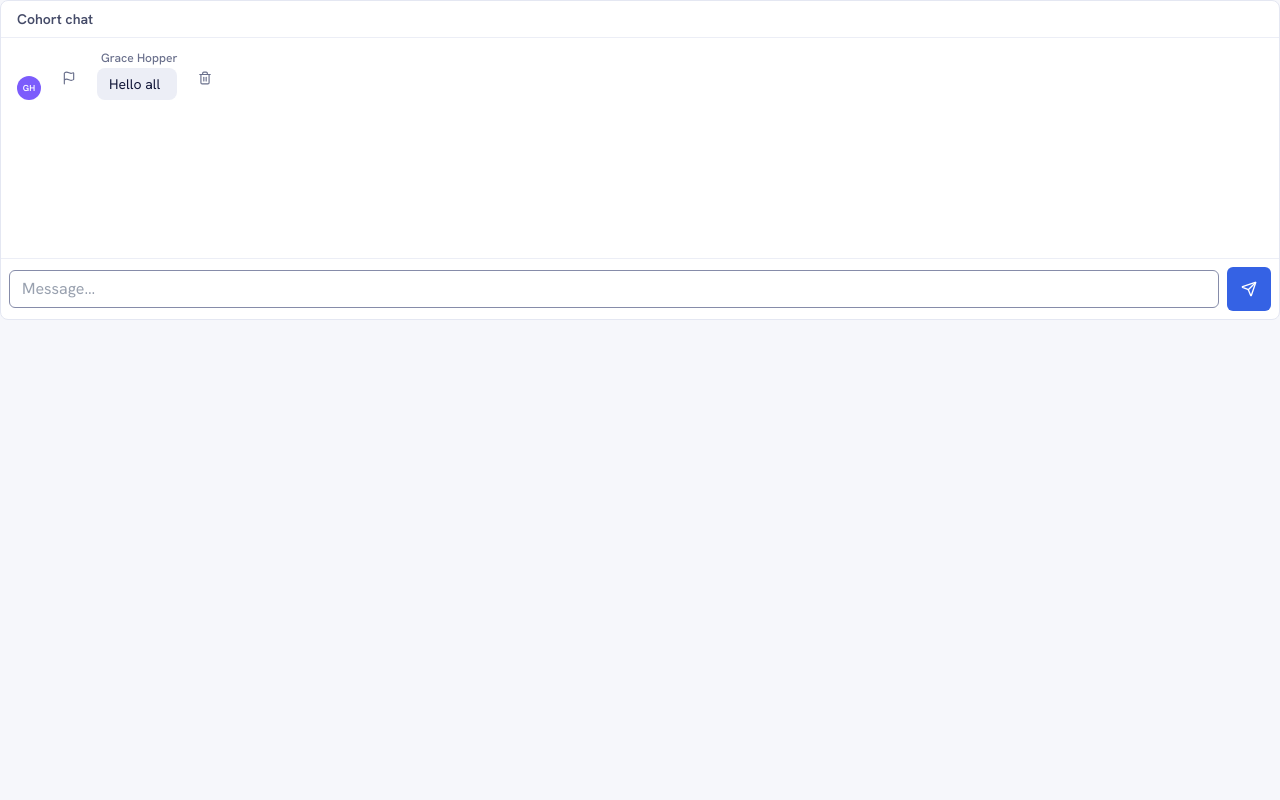
ChatPanel › asks before deleting a message, and deletes only on confirm
expect the text "Hello all" is shown: met, box [97,68,178,100]
Click the button named "Delete message". click: [206, 78]
box: [184,56,228,100]
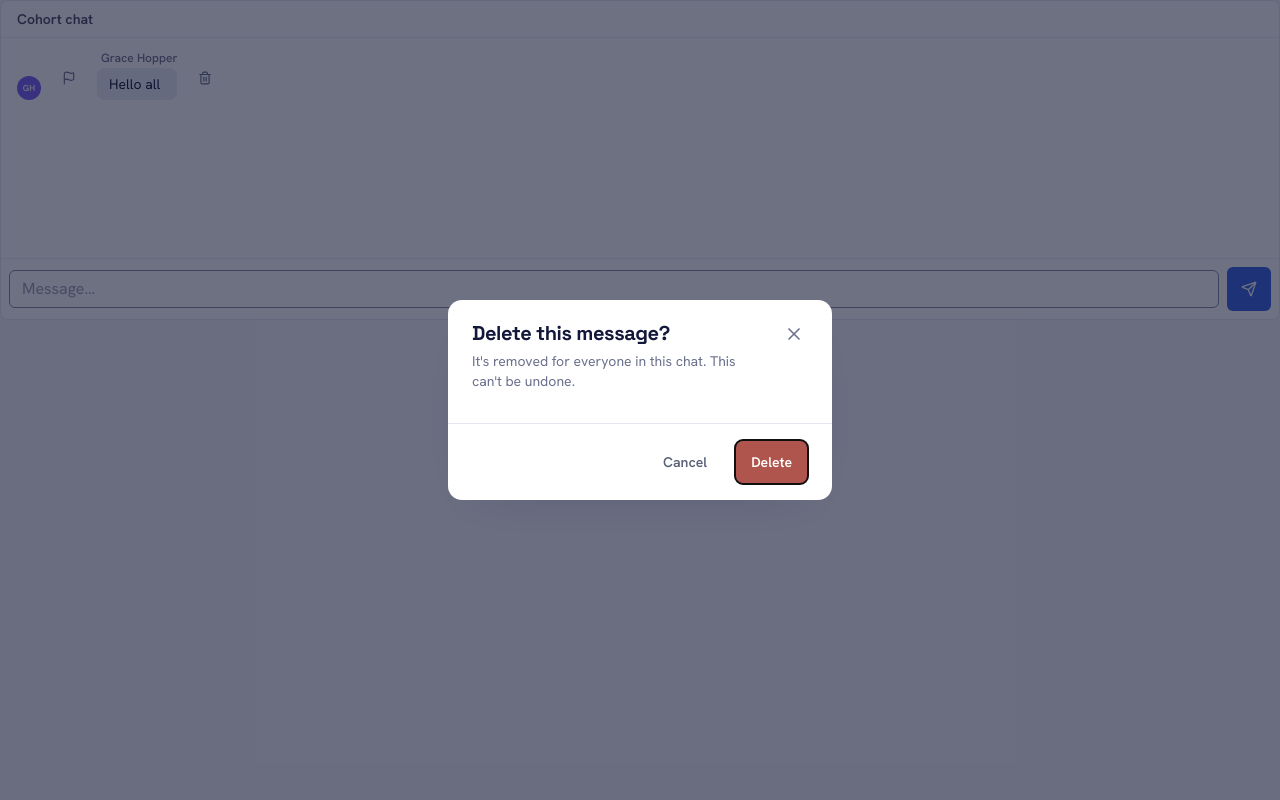
expect the dialog "Delete this message?" is shown: met, box [448,300,832,500]
# Backing out deletes nothing.
Click the button "Cancel". click: [685, 462]
box: [647,440,723,484]
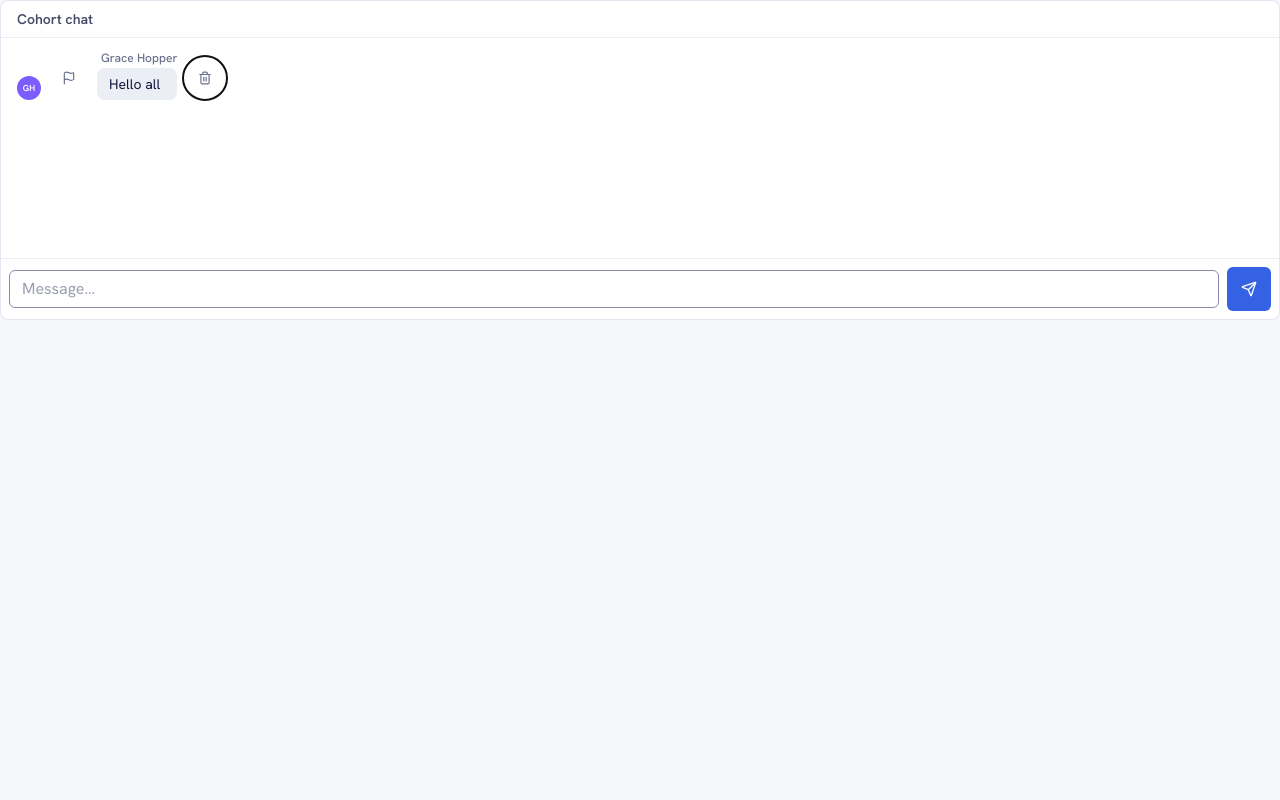
expect the dialog is gone: met
Click the button named "Delete message". click: [206, 78]
box: [184,56,228,100]
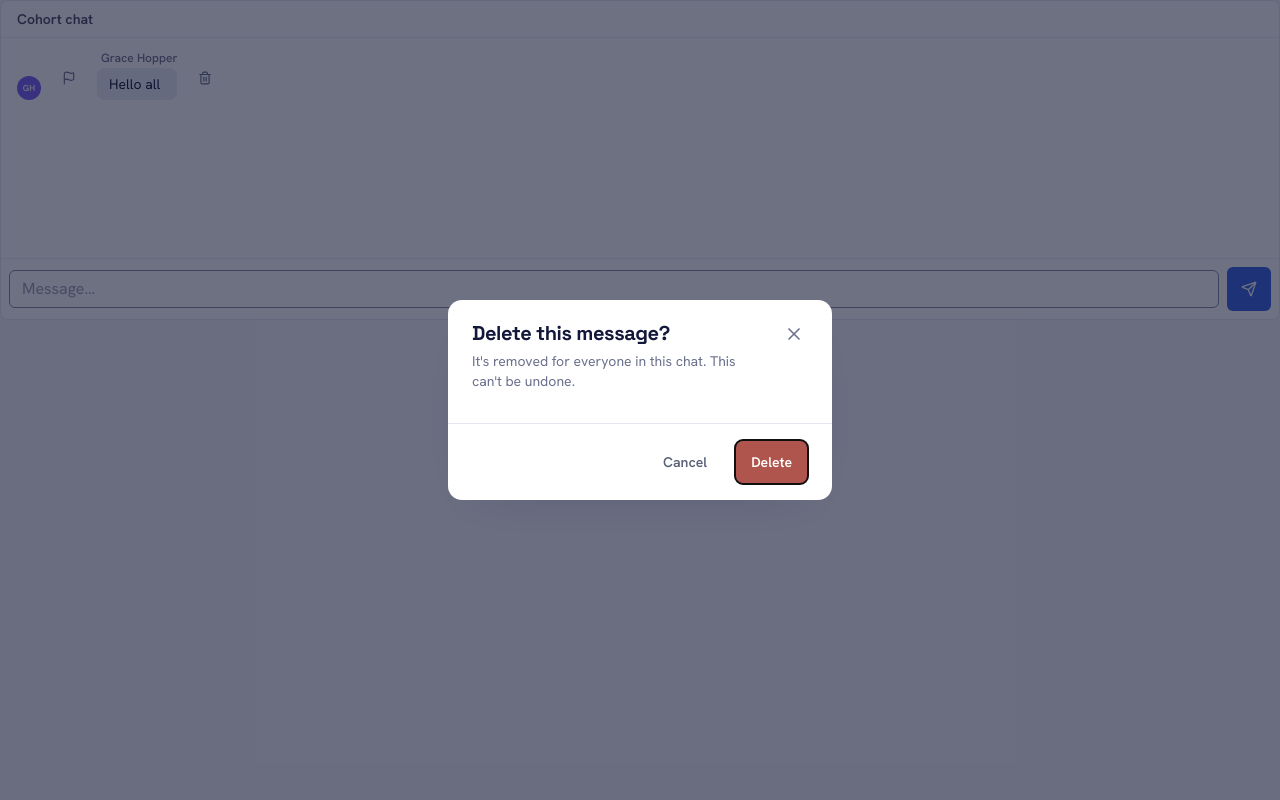
Click the button "Delete". click: [772, 462]
box: [735,440,808,484]
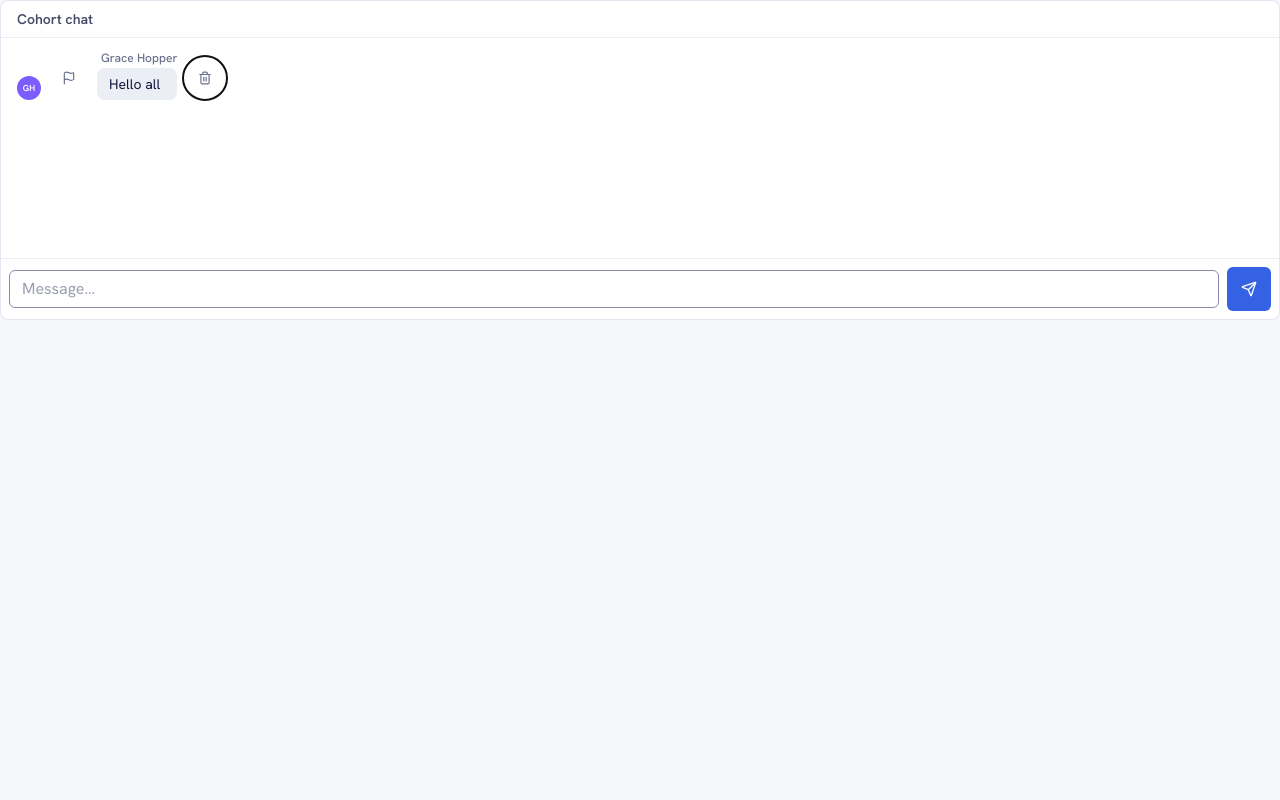
expect the dialog is gone: met
